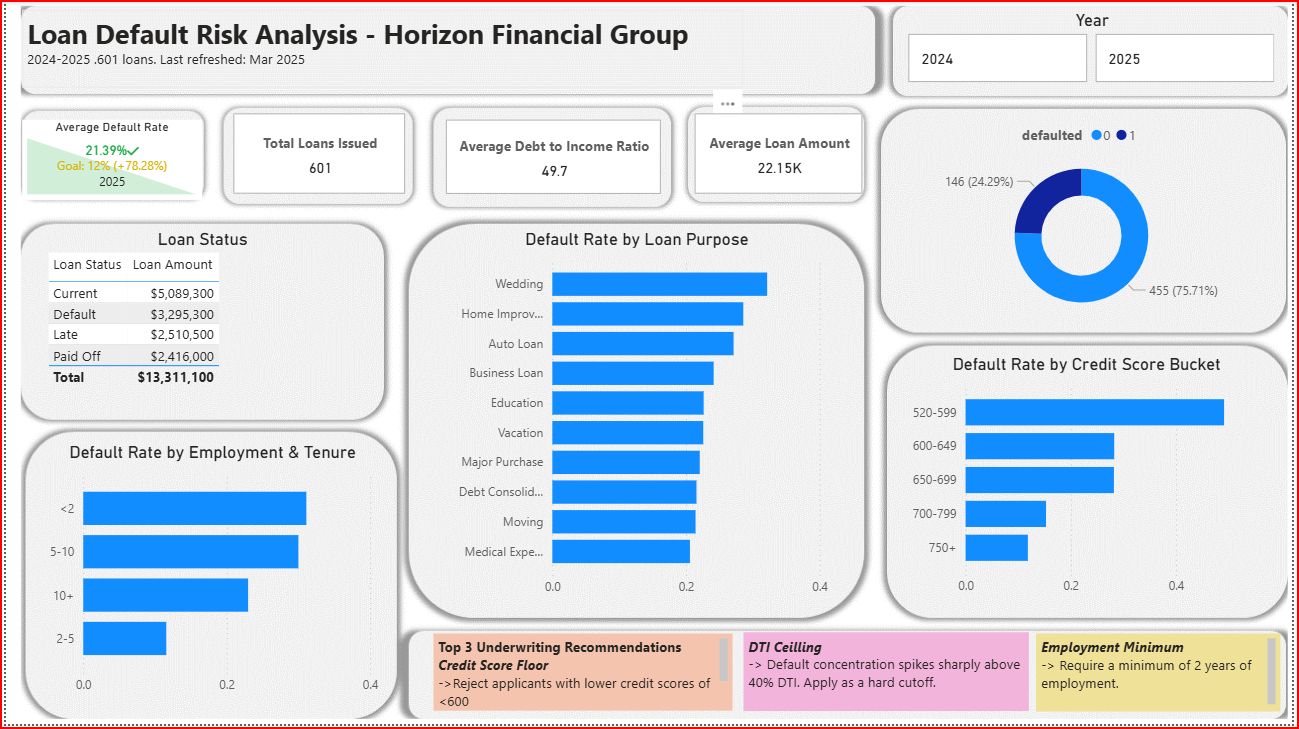

This screenshot's page, from the dashboard's own definition file:
{"tool":"powerbi","page":{"name":"Dashboard","canvas":[1280,720],"ordinal":6},"visuals":[{"type":"image","box":[9.7,0,1270.3,719.8],"z":0},{"type":"textbox","box":[16.5,8.8,716.8,77.8],"z":1000},{"type":"advancedSlicerVisual","fields":{"Values":["loan_analysis_ready.application_date.Variation.Date Hierarchy.Year"]},"box":[892.9,8.8,375.4,77.8],"z":1001},{"type":"kpi","title":"Average Default Rate","fields":{"Indicator":["Avg(loan_analysis_ready.defaulted)"],"Goal":["loan_analysis_ready.Target"],"TrendLine":["loan_analysis_ready.application_date.Variation.Date Hierarchy.Year"]},"box":[16.5,117.7,179,79.8],"z":1002},{"type":"cardVisual","fields":{"Data":["CountNonNull(loan_analysis_ready.borrower_id)"]},"box":[221.8,107,181.9,90.5],"z":1003},{"type":"cardVisual","fields":{"Data":["Avg(loan_analysis_ready.dti_ratio)"]},"box":[432.8,112.8,224.7,84.6],"z":1004},{"type":"cardVisual","fields":{"Data":["Avg(loan_analysis_ready.loan_amount)"]},"box":[679.9,107,178,90.5],"z":1005},{"type":"tableEx","title":"Loan Status","fields":{"Values":["loan_analysis_ready.loan_status","Sum(loan_analysis_ready.loan_amount)"]},"box":[36,226.6,319,179],"z":1006},{"type":"donutChart","fields":{"Category":["loan_analysis_ready.defaulted"],"Y":["CountNonNull(loan_analysis_ready.borrower_id)"]},"box":[883.2,112.8,374.5,211.1],"z":1007},{"type":"clusteredBarChart","title":"Default Rate by Employment & Tenure","fields":{"Category":["loan_analysis_ready.emp_year_bucket"],"Y":["Avg(loan_analysis_ready.defaulted)"]},"box":[36,439.6,339.5,259.7],"z":1008},{"type":"clusteredBarChart","title":"Default Rate by Loan Purpose","fields":{"Category":["loan_analysis_ready.loan_purpose"],"Y":["Avg(loan_analysis_ready.defaulted)"]},"box":[432.8,226.6,390,374.5],"z":1009},{"type":"clusteredBarChart","title":"Default Rate by Credit Score Bucket","fields":{"Category":["loan_analysis_ready.credit_bucket"],"Y":["Avg(loan_analysis_ready.defaulted)"]},"box":[892.9,351.1,364.7,250],"z":1010},{"type":"textbox","box":[425,629.3,297.6,76.8],"z":1011},{"type":"textbox","box":[733.4,628.3,284,78.8],"z":1012},{"type":"textbox","box":[1025.2,629.3,243.2,77.8],"z":1013}]}

Visuals, with their boxes in screenshot pixels (x1, y1, x2, y2), scaled from the page's 1280x720 canvas onto the 1299x729 screenshot:
image: box(10, 0, 1298, 728)
textbox: box(17, 9, 744, 88)
advancedSlicerVisual - loan_analysis_ready.application_date.Variation.Date Hierarchy.Year: box(906, 9, 1287, 88)
"Average Default Rate" kpi: box(17, 119, 198, 200)
cardVisual - CountNonNull(loan_analysis_ready.borrower_id): box(225, 108, 410, 200)
cardVisual - Avg(loan_analysis_ready.dti_ratio): box(439, 114, 667, 200)
cardVisual - Avg(loan_analysis_ready.loan_amount): box(690, 108, 871, 200)
"Loan Status" tableEx: box(37, 229, 360, 411)
donutChart - loan_analysis_ready.defaulted x CountNonNull(loan_analysis_ready.borrower_id): box(896, 114, 1276, 328)
"Default Rate by Employment & Tenure" clusteredBarChart: box(37, 445, 381, 708)
"Default Rate by Loan Purpose" clusteredBarChart: box(439, 229, 835, 609)
"Default Rate by Credit Score Bucket" clusteredBarChart: box(906, 355, 1276, 609)
textbox: box(431, 637, 733, 715)
textbox: box(744, 636, 1033, 716)
textbox: box(1040, 637, 1287, 716)
